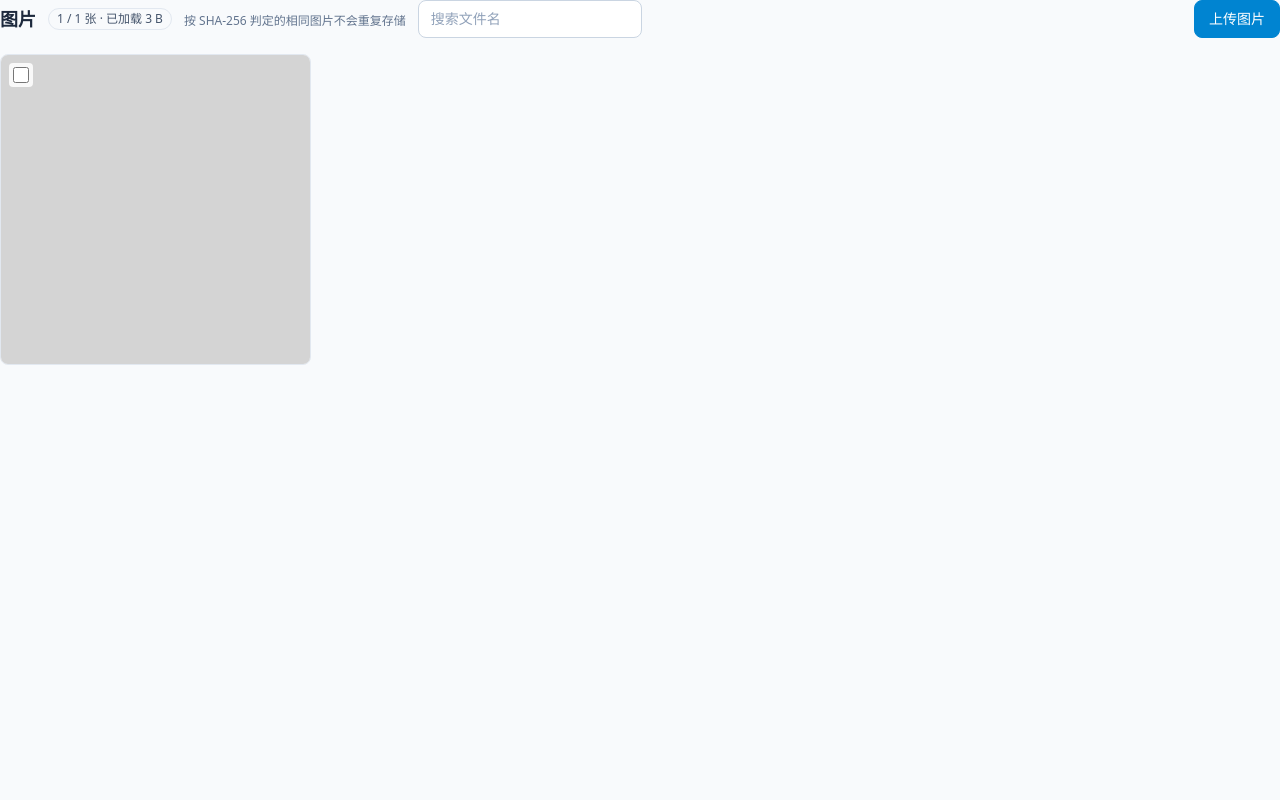
Scenario: lightbox 详情 › closes the lightbox on the way
What coordinates should you click on to do the following:
click the button named "查看 abc123.png"
I would click on:
 (156, 210)
Its box is [1, 55, 310, 364].
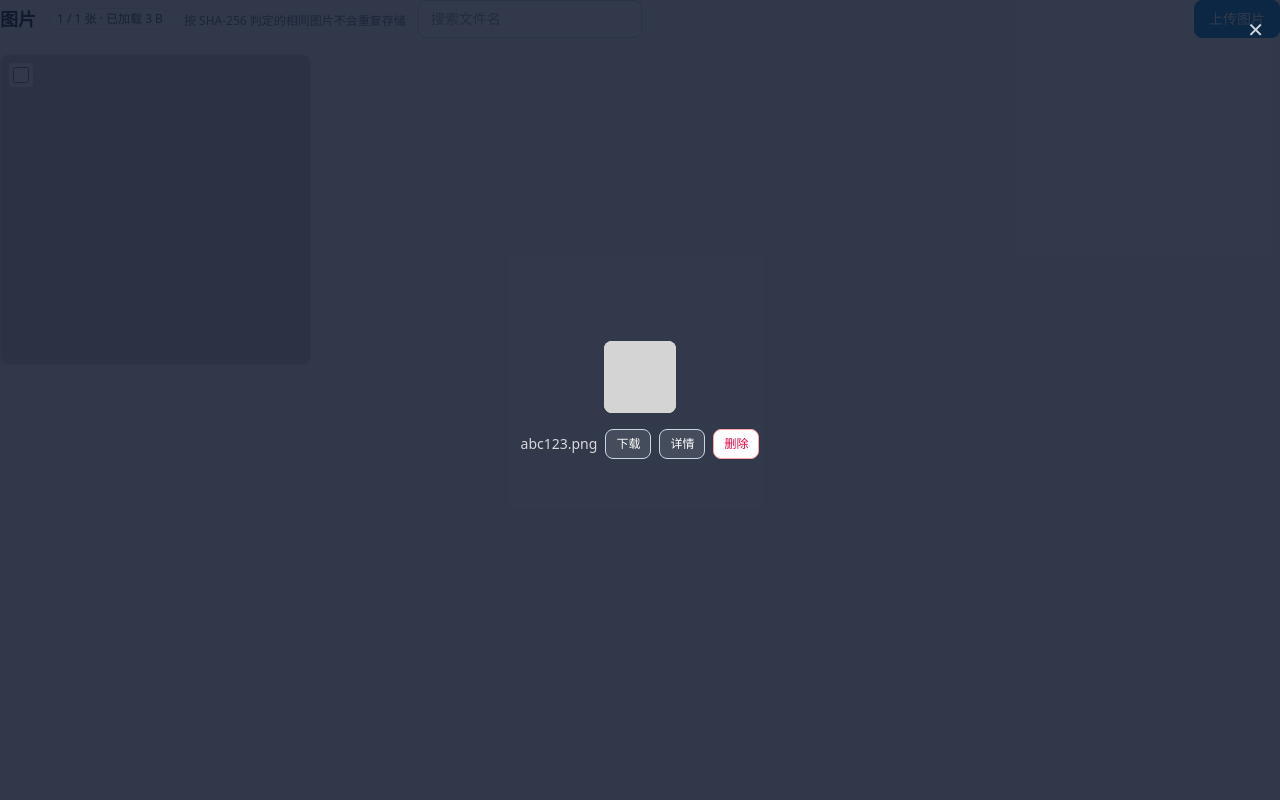
Expected: the button "详情" is shown
What coordinates should you click on to do the following:
click the button "详情"
I would click on:
 (682, 444)
Its box is [659, 429, 705, 459].
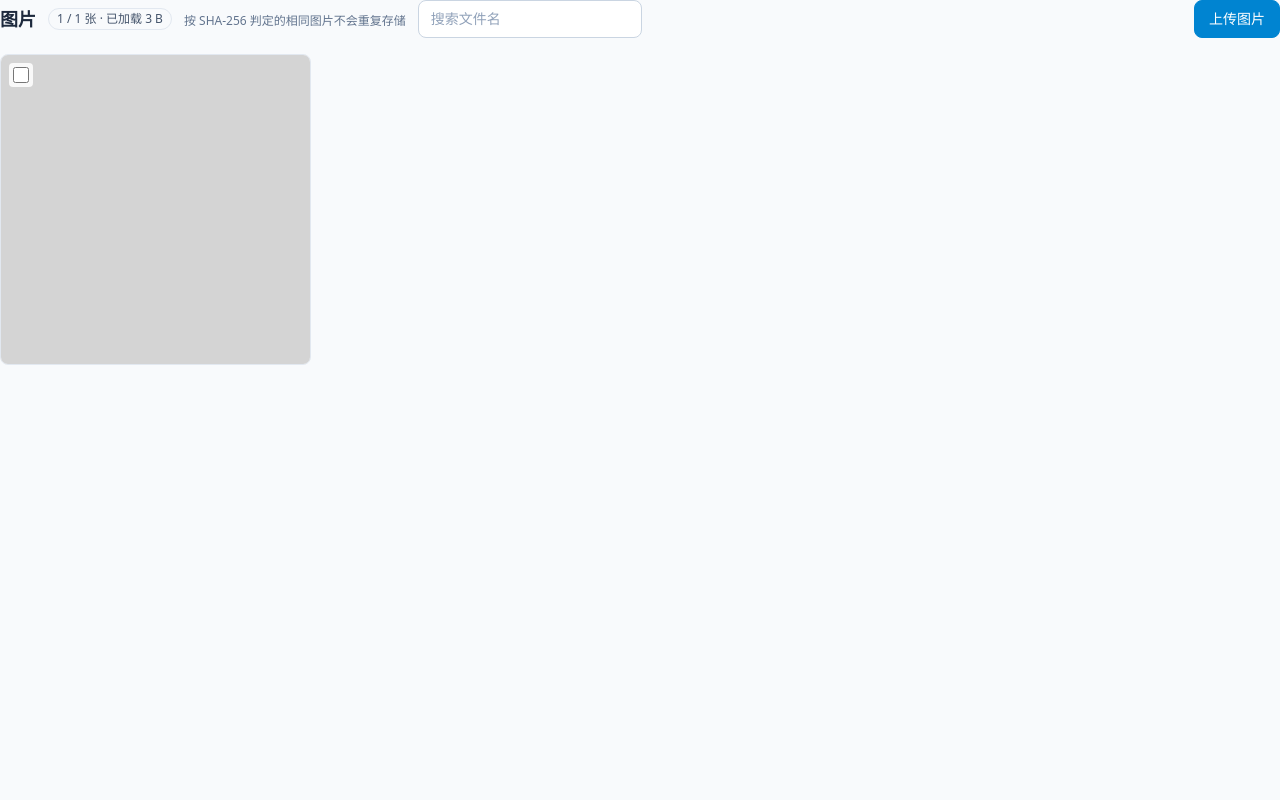
Expected: the button "详情" is gone
